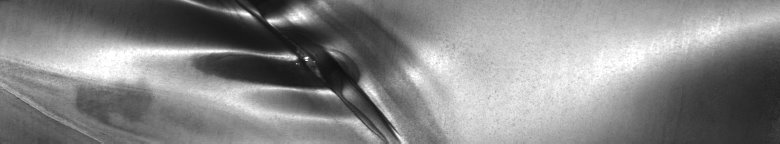ke: (148, 4, 400, 136)
